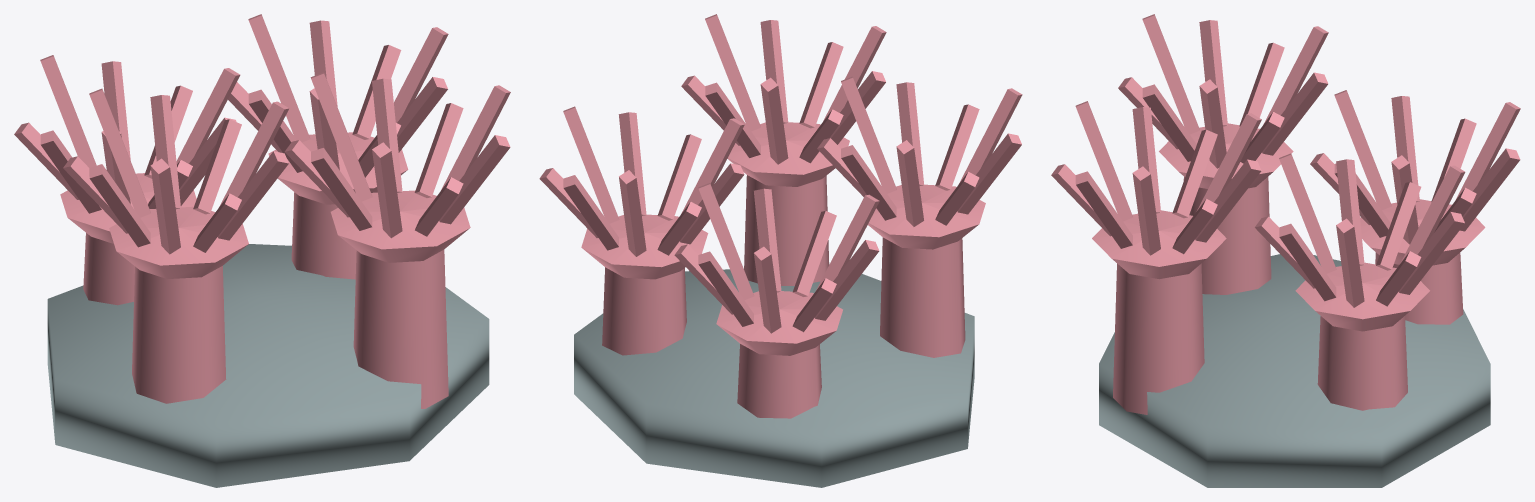
File: sunken-city-and-underwater-ruins-anemone-cluster-55408610__36989.glb
3 views of the same model, side by side, from view 1: azimuth 30°, elevation 25°; view 2: azimuth 150°, elevation 25°; view 3: azimuth 270°, elevation 25° (orthographic). The views are drawn at different scales.
Visible parts, largest first — view 1: anemone-cluster; view 2: anemone-cluster; view 3: anemone-cluster.
Part boxes in pixels (box(x1,y1,x2,y2)): anemone-cluster: box(14, 14, 510, 487); anemone-cluster: box(539, 14, 1022, 487); anemone-cluster: box(1051, 14, 1520, 487).
Bounding box in the file's own units: 1.1 × 0.8936 × 1.11.
